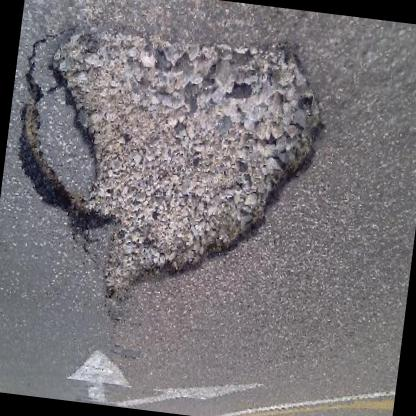pothole: (0, 12, 337, 338)
